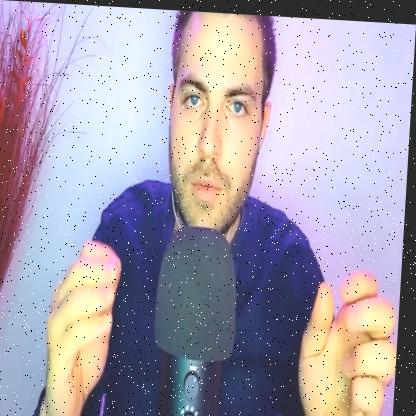streamer: (29, 2, 416, 416)
